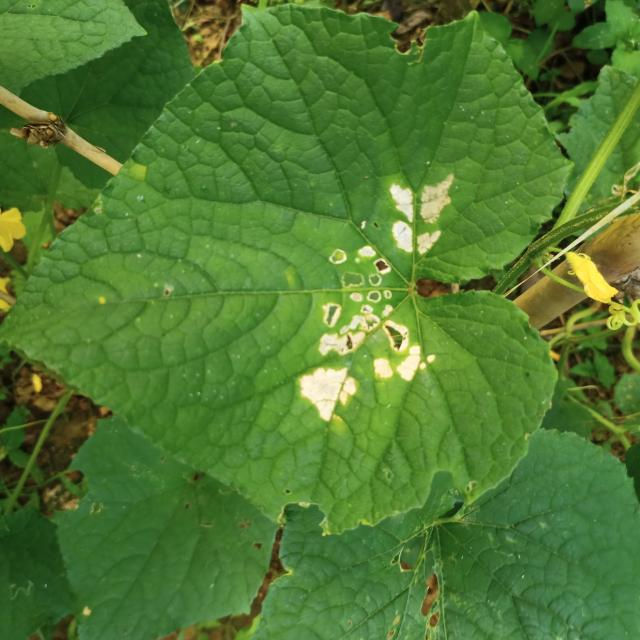disease_cucumber: (288, 240, 439, 431), (381, 173, 461, 258)
